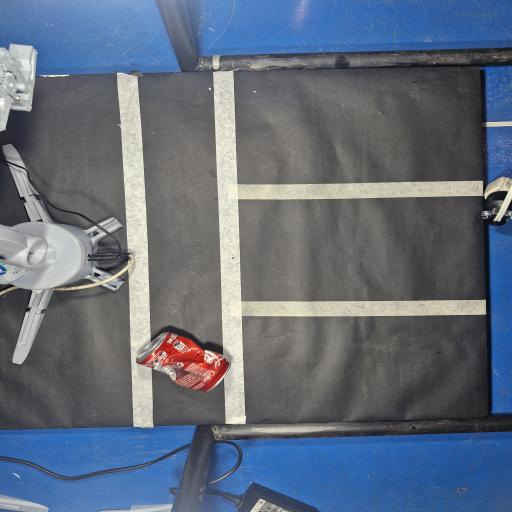lata_defectuoso: (137, 332, 230, 391)
